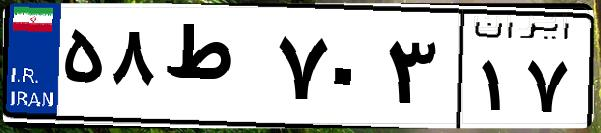0: (330, 28, 385, 110)
1: (475, 38, 525, 113)
3: (385, 28, 445, 110)
5: (57, 26, 110, 100)
7: (270, 28, 330, 110), (525, 38, 570, 115)
8: (110, 28, 158, 98)
ط: (158, 20, 270, 120)
